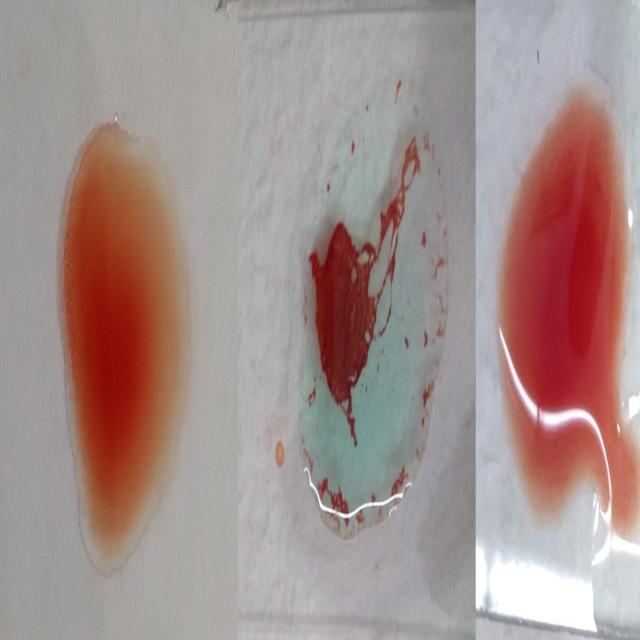A: (294, 44, 445, 548)
